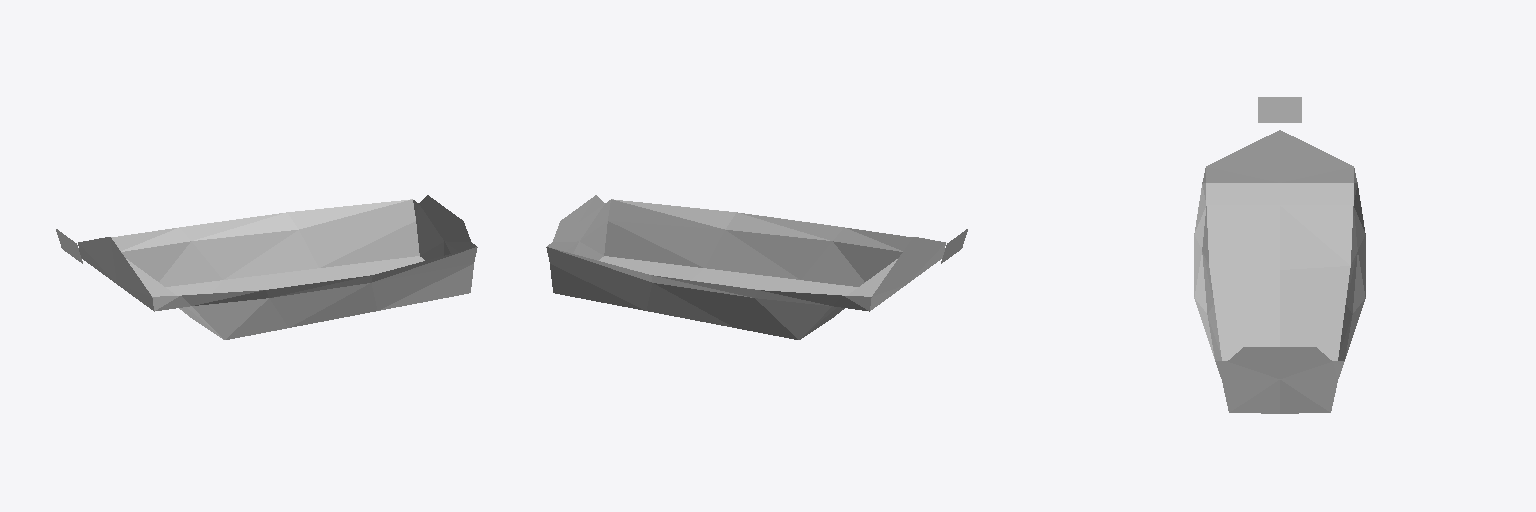
File: Grey.obj
3 renders of one model, left to right at view 1: azimuth 30°, elevation 25°; view 2: azimuth 150°, elevation 25°; view 3: azimuth 270°, elevation 25°, orthographic.
Visible parts, largest first — view 1: f16_lowpoly:plane_to_uv6:polySurface85.001_Mesh.222; view 2: f16_lowpoly:plane_to_uv6:polySurface85.001_Mesh.222; view 3: f16_lowpoly:plane_to_uv6:polySurface85.001_Mesh.222.
Part boxes in pixels (left/top/right/bottom): f16_lowpoly:plane_to_uv6:polySurface85.001_Mesh.222: left=56, top=195, right=477, bottom=339; f16_lowpoly:plane_to_uv6:polySurface85.001_Mesh.222: left=546, top=195, right=967, bottom=339; f16_lowpoly:plane_to_uv6:polySurface85.001_Mesh.222: left=1194, top=97, right=1365, bottom=413.
Size of the model in its own units: 0.0958 by 0.032 by 0.0375.